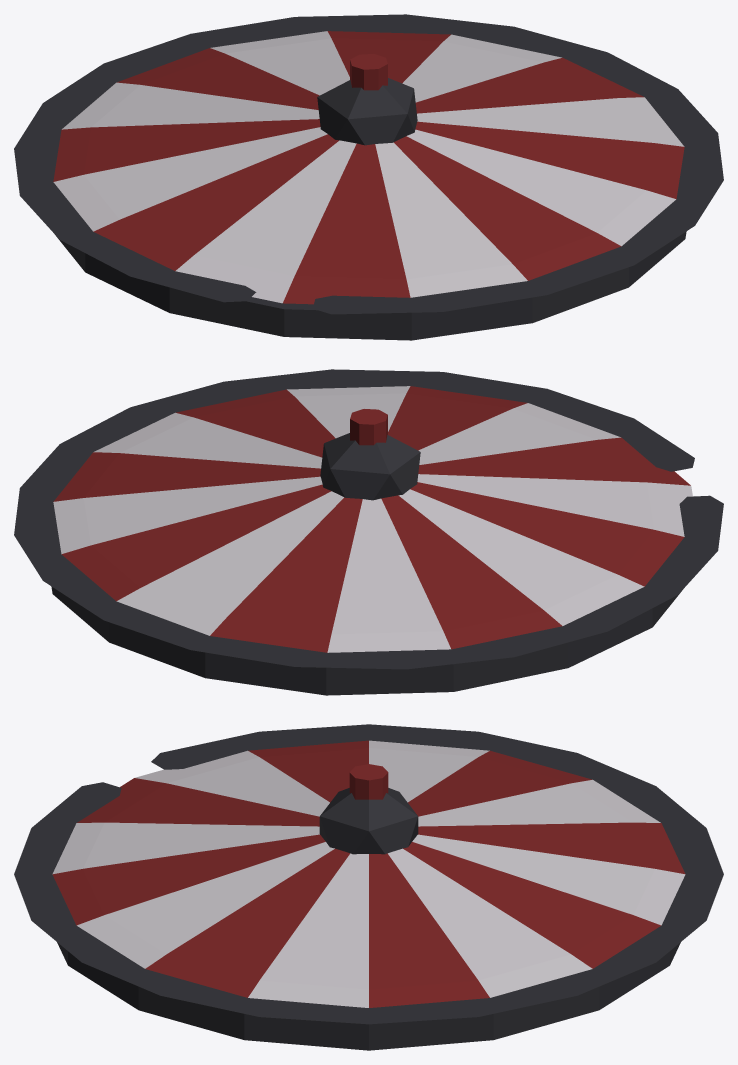
File: sunburst_shield.glb
The picture shows the model from 3 angles, top to bottom: view 1: azimuth 30°, elevation 25°; view 2: azimuth 150°, elevation 25°; view 3: azimuth 270°, elevation 25°; orthographic projection.
Parts seen in each view (by area): view 1: sunburst_shield; view 2: sunburst_shield; view 3: sunburst_shield.
Boxes of the visible parts, x1,y1,x2,y2 form: sunburst_shield: (14, 14, 723, 340); sunburst_shield: (14, 369, 723, 695); sunburst_shield: (14, 724, 723, 1050).
Bounding box in the file's own units: 1.17 × 0.35 × 1.17.
